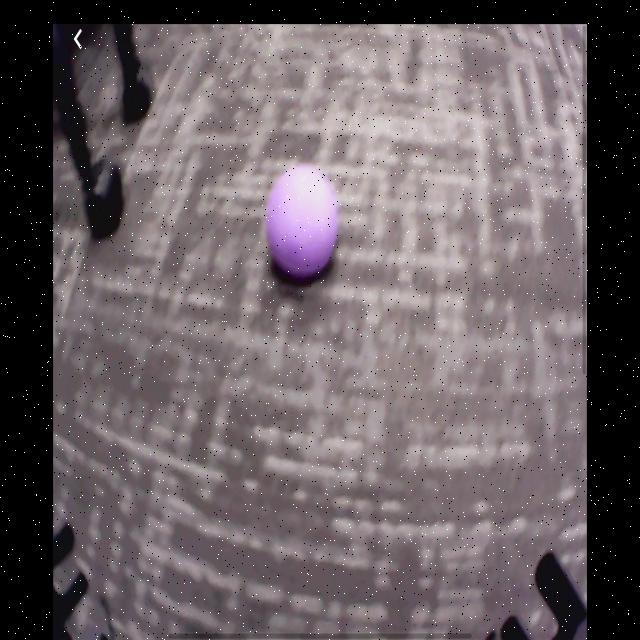ball: (268, 166, 338, 280)
